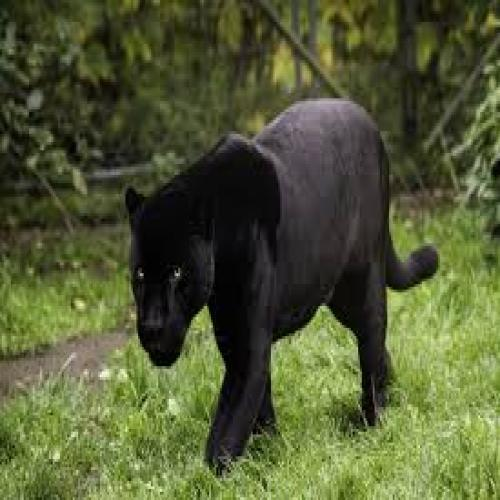panther-endangered: (121, 101, 436, 466)
